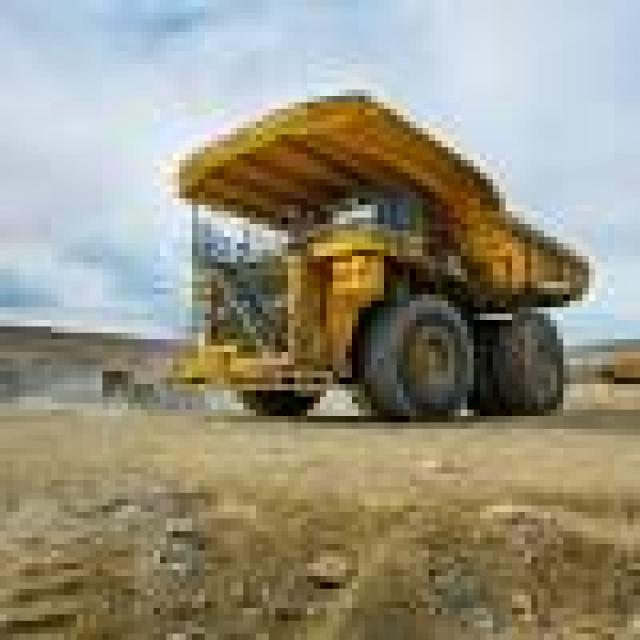dump_truck: (160, 58, 634, 454)
